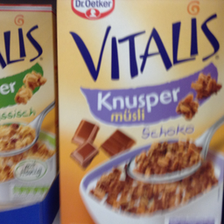cereal: (56, 1, 219, 224), (1, 3, 54, 211)
